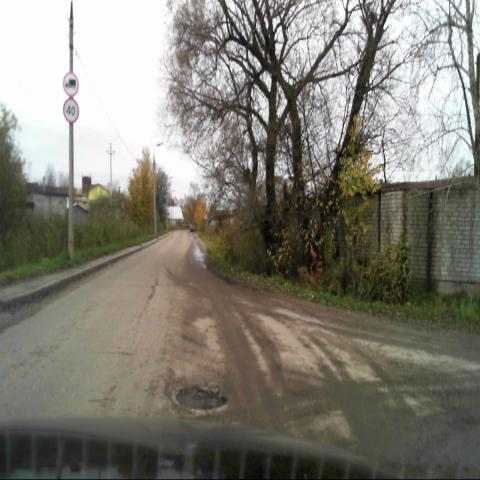3_4_1: (63, 70, 78, 99)
